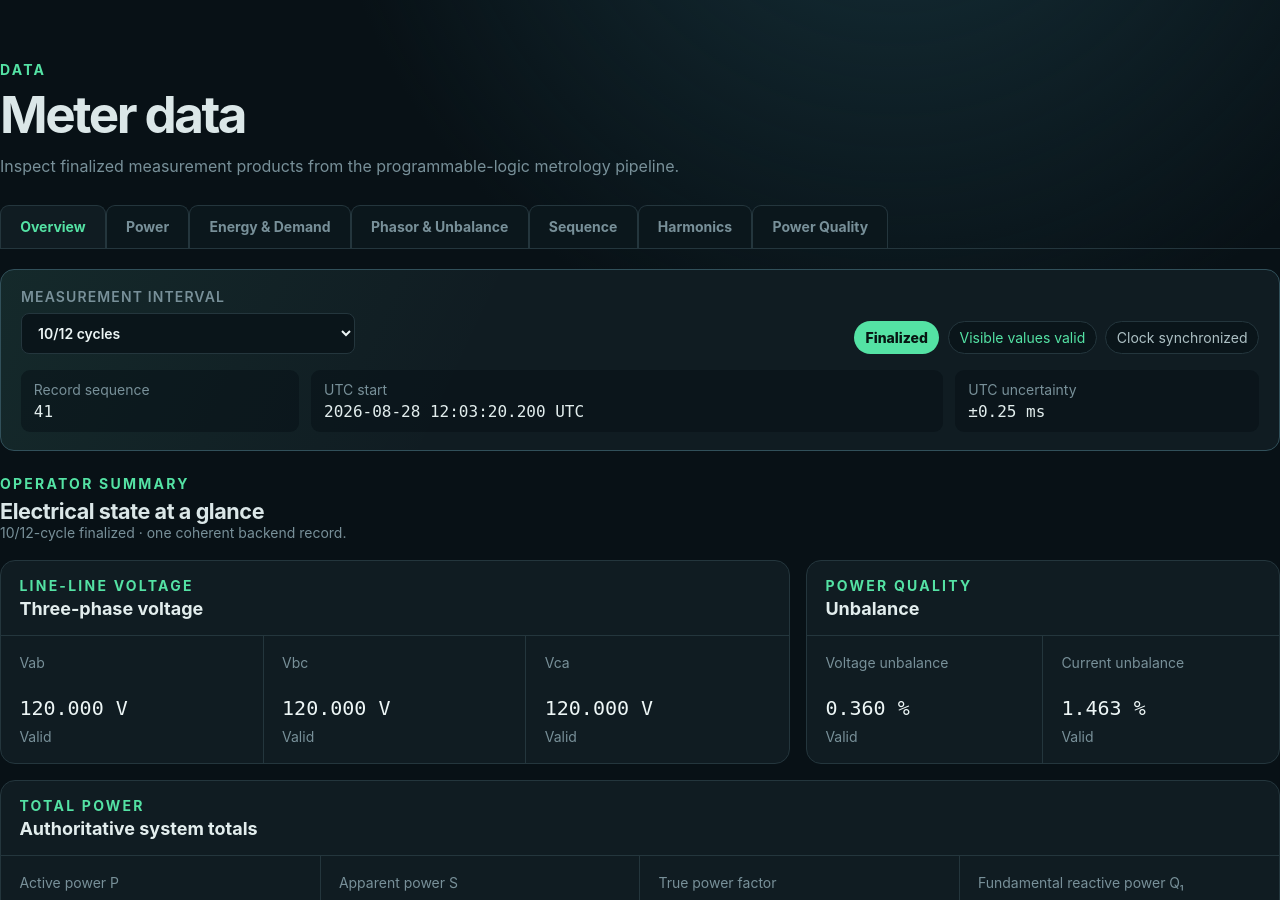
Reading page coherent record behavior › shows two-hour startup data as priming rather than finalized invalid values
The width and height of the screenshot is (1280, 900).
Select "2 hours" in the dropdown labelled "Measurement interval": (188, 333) left=21, top=313, right=355, bottom=354
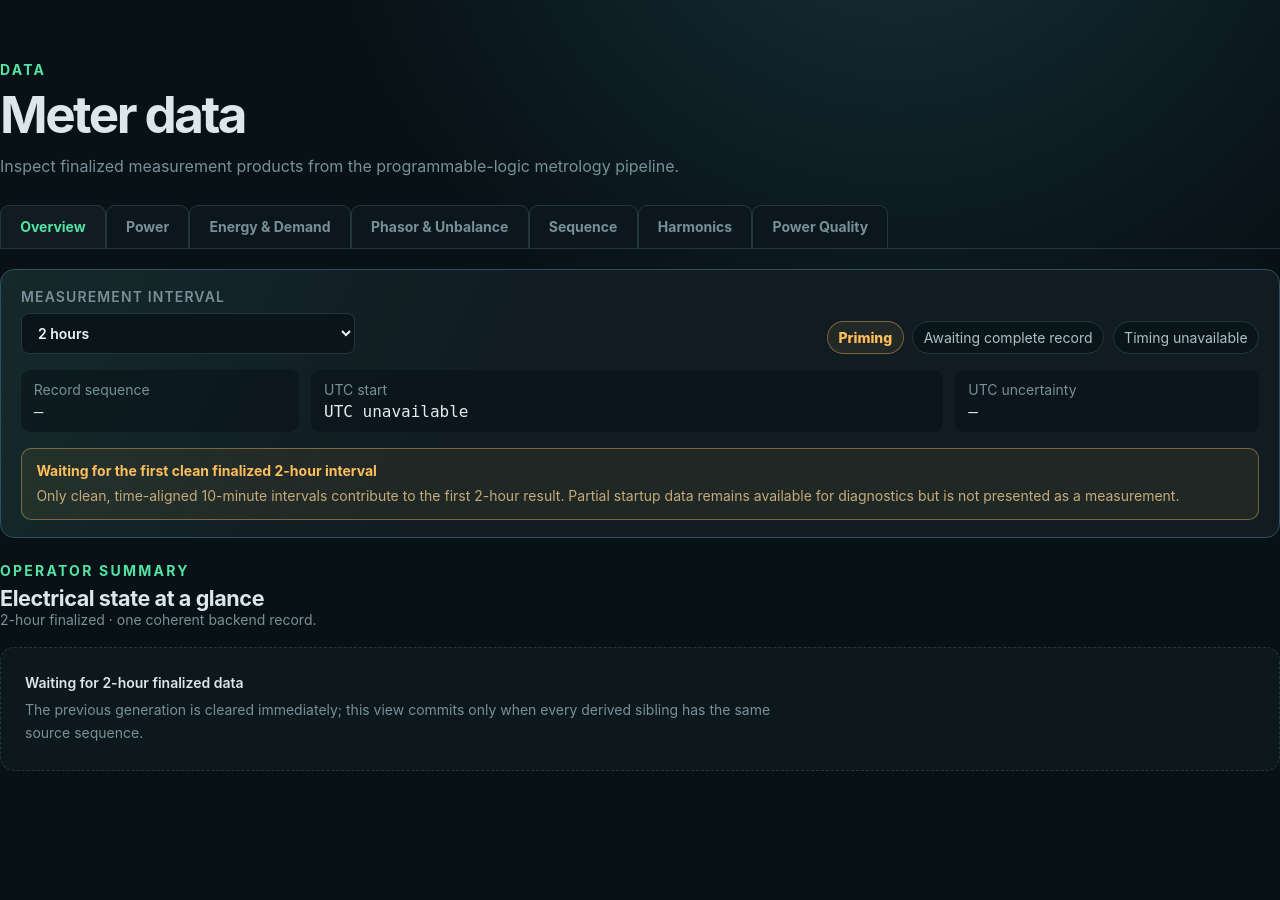
Expected: the message shows "Waiting for the first clean finalized 2-hour interval", left=21, top=448, right=1259, bottom=520
